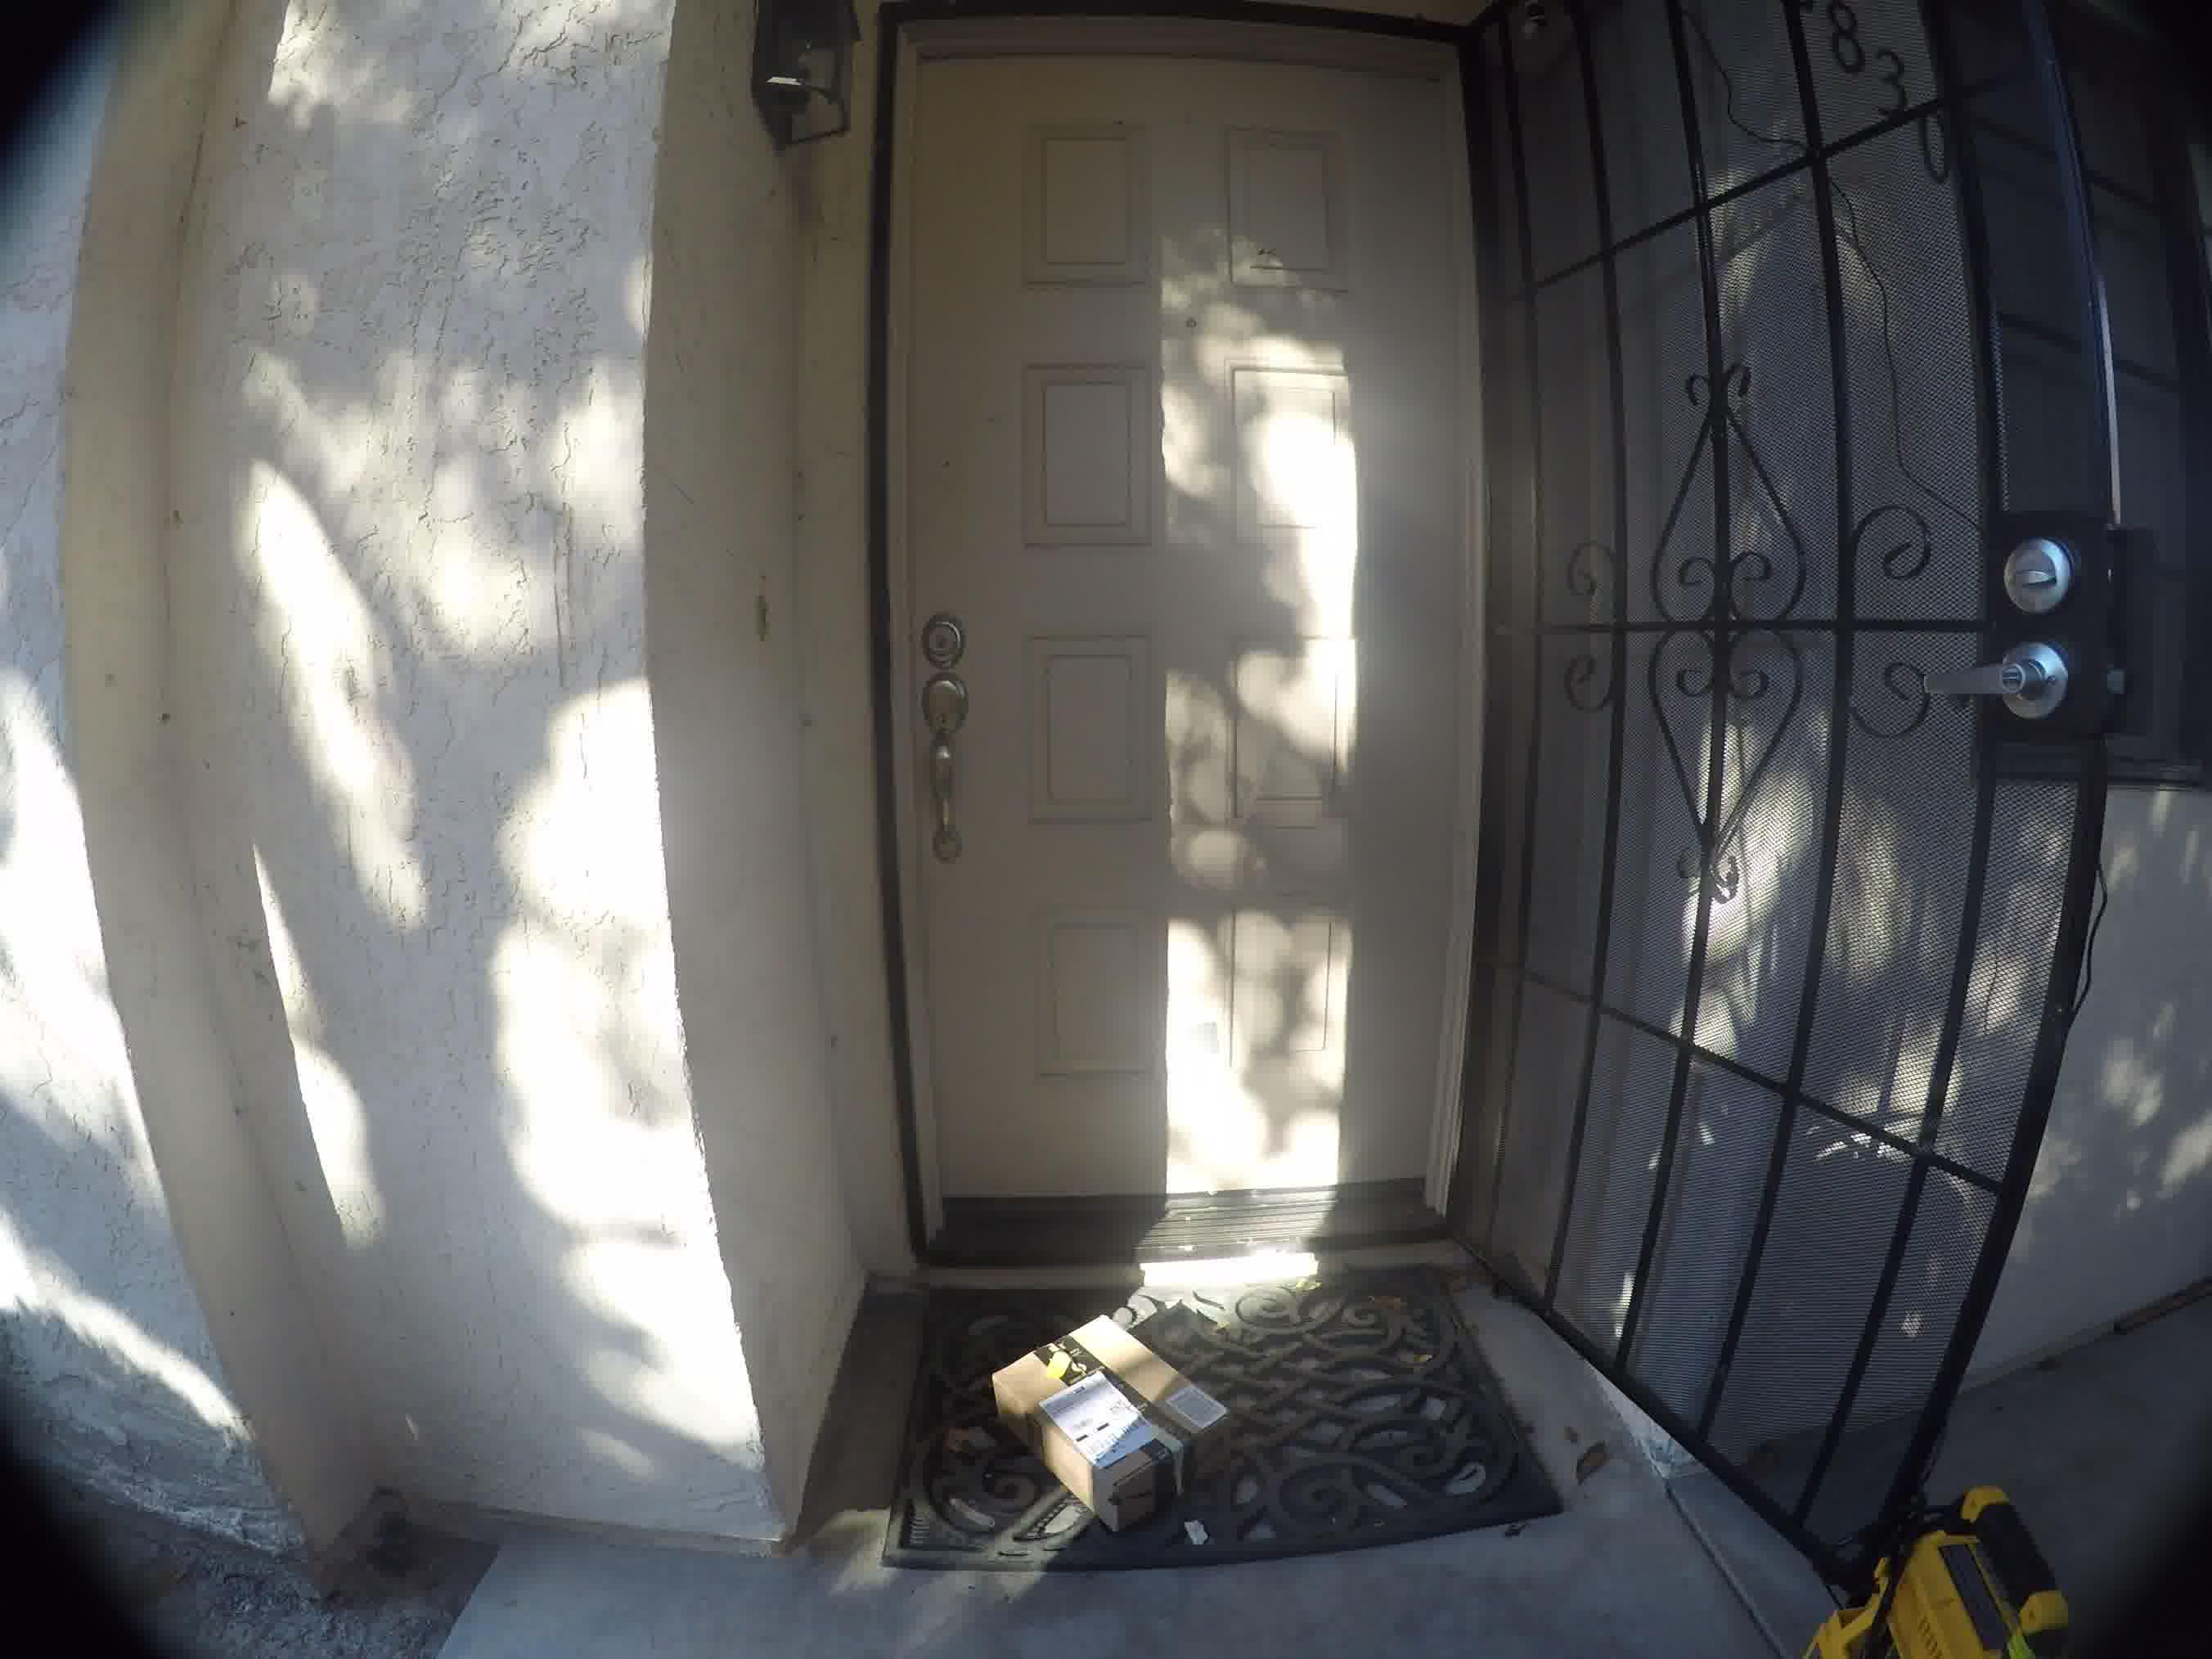box: (937, 1305, 1264, 1528)
